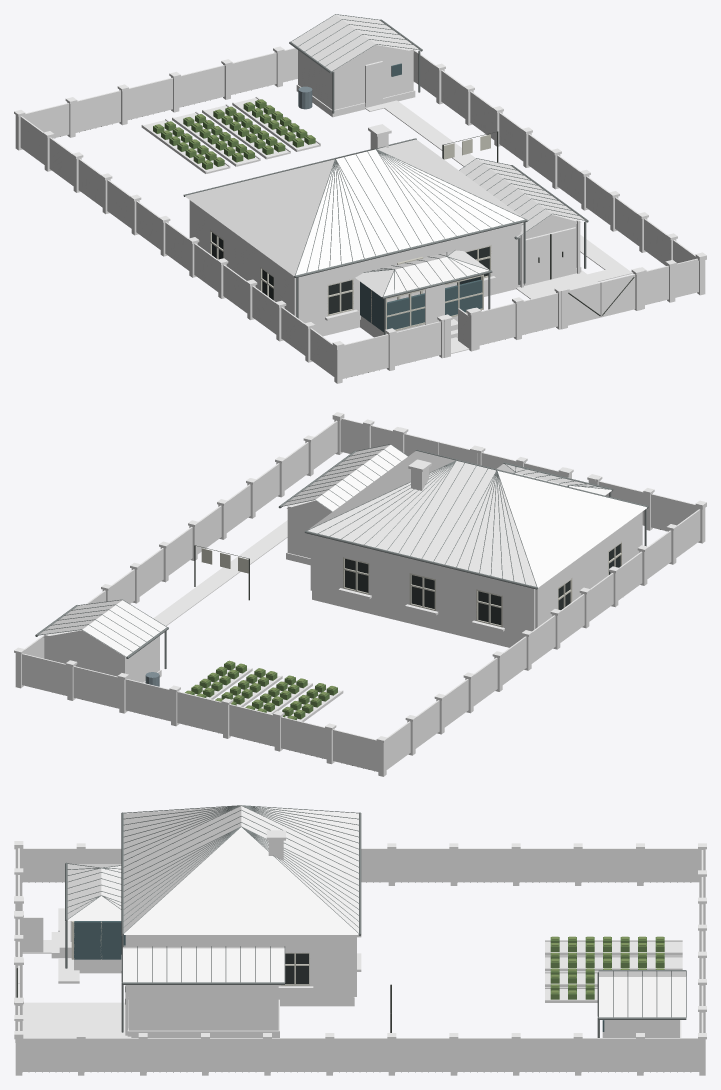
3 renders of one model, top to bottom at view 1: azimuth 30°, elevation 25°; view 2: azimuth 150°, elevation 25°; view 3: azimuth 270°, elevation 25°, orthographic. The views are drawn at different scales.
Visible parts, largest first — view 1: ParcelGeometry.027, SummerPlanting.025; view 2: ParcelGeometry.027, SummerPlanting.025; view 3: ParcelGeometry.027, SummerPlanting.025.
Part boxes in pixels (x1,y1,x2,y2): ParcelGeometry.027: (14, 14, 706, 383); SummerPlanting.025: (153, 99, 490, 169); ParcelGeometry.027: (14, 412, 706, 776); SummerPlanting.025: (185, 548, 337, 720); ParcelGeometry.027: (14, 805, 706, 1075); SummerPlanting.025: (550, 936, 664, 999).
Bounding box in the file's own units: 18.33 × 5.96 × 27.74.
